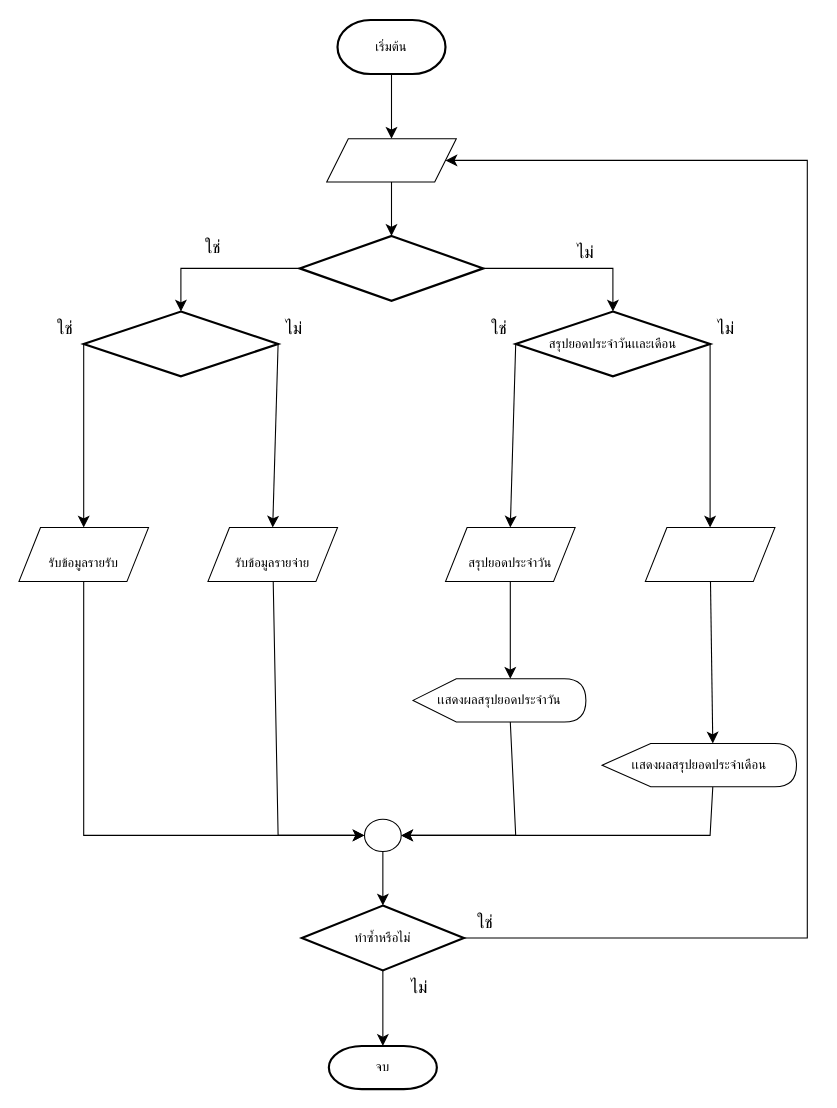
Image size: 837x1108. Some labels were removed from this diagram. The box of each missing label's shape, as (x1, y1, x2, y2) in pixels:
ตัวเลือก: (298, 234, 484, 301)
รับค่าข้อมูล: (326, 138, 456, 182)
รายรับ รายจ่าย: (82, 310, 279, 377)
สรุปยอดประจำเดือน: (644, 526, 775, 582)
